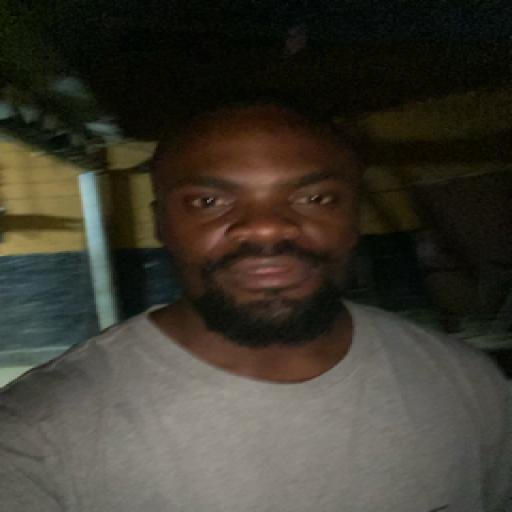JEANLUC: (156, 120, 376, 342)
